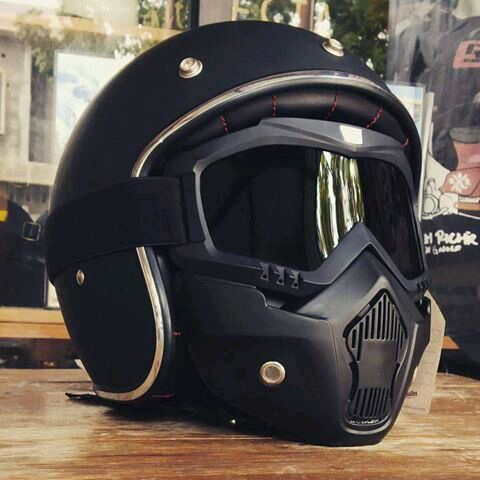helmet: (44, 21, 431, 446)
